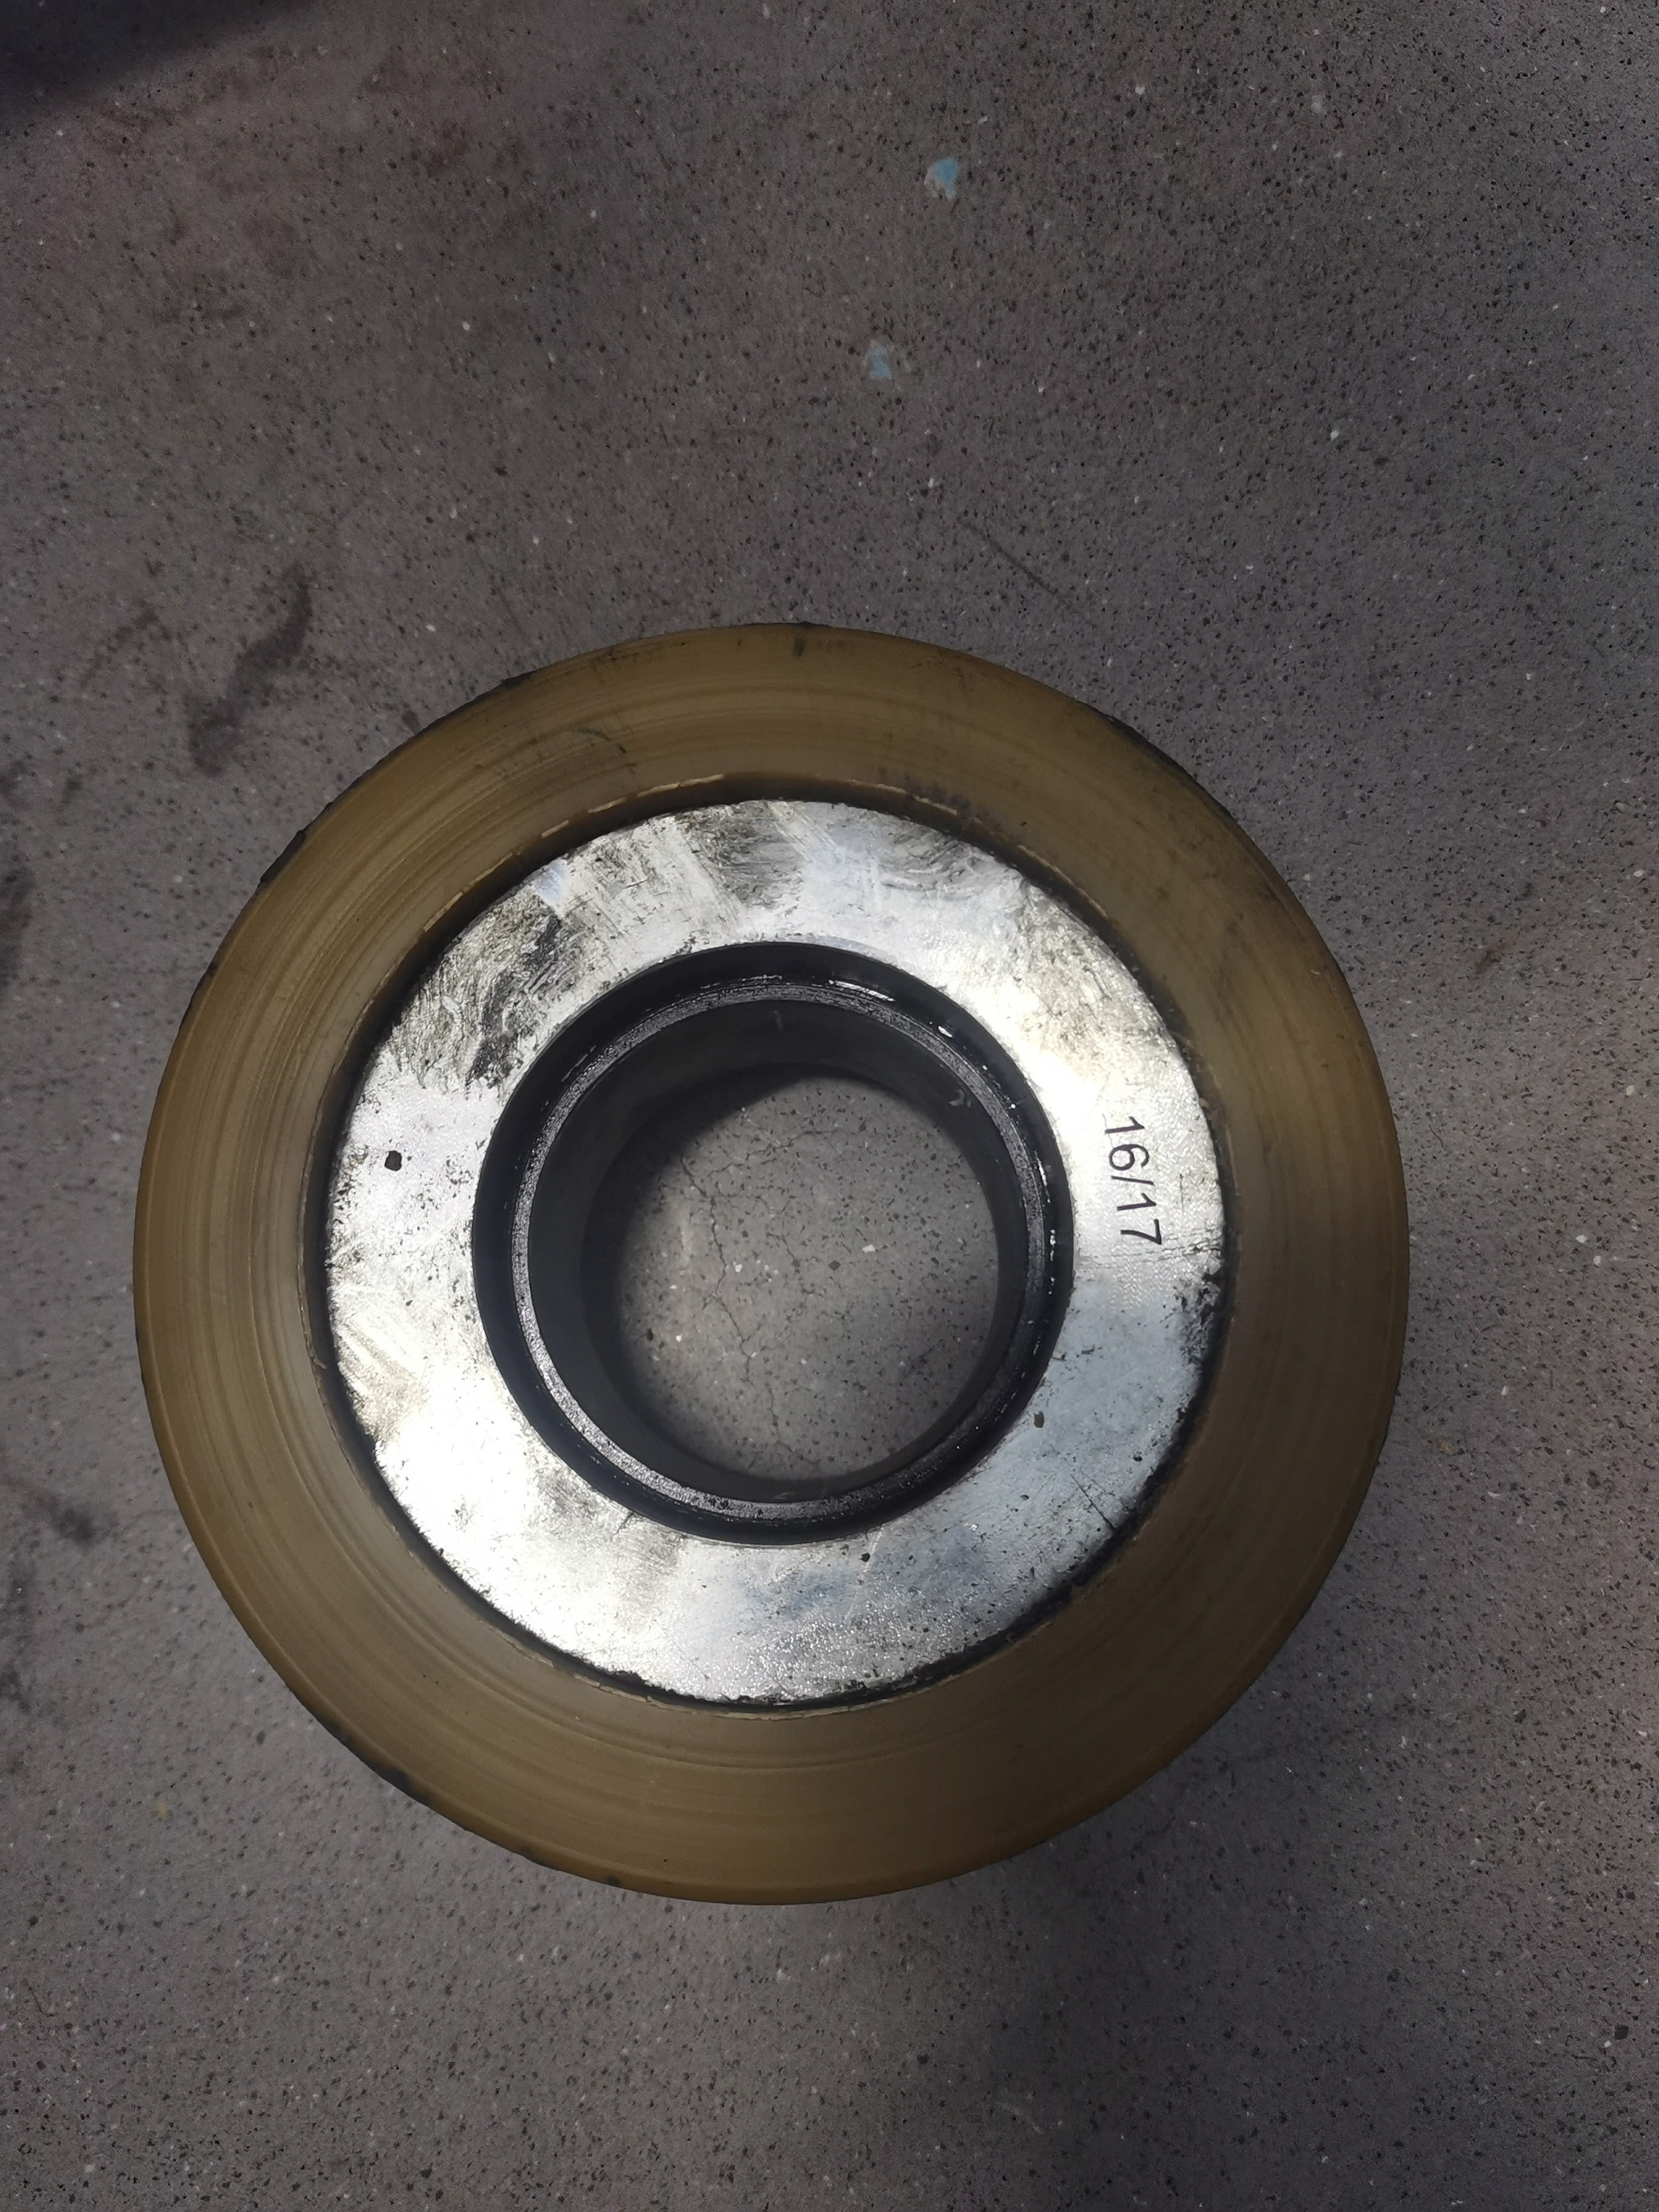bad_wheel: (488, 932, 1073, 1514), (315, 982, 406, 1362)
